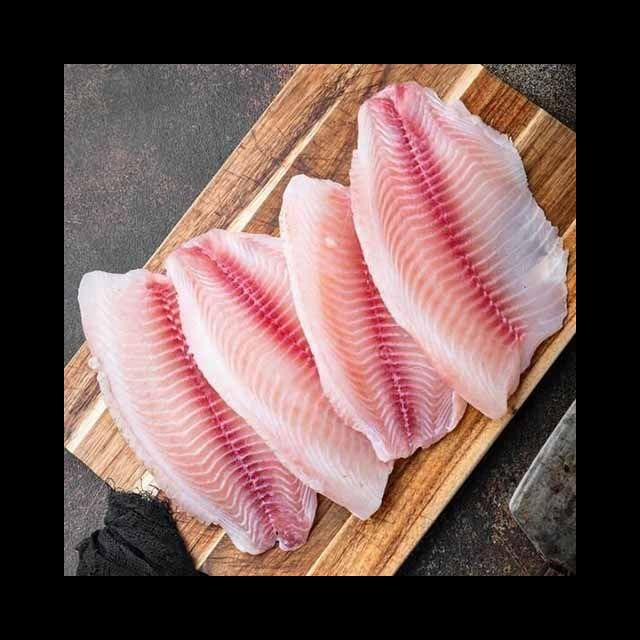fish: (337, 74, 576, 435)
